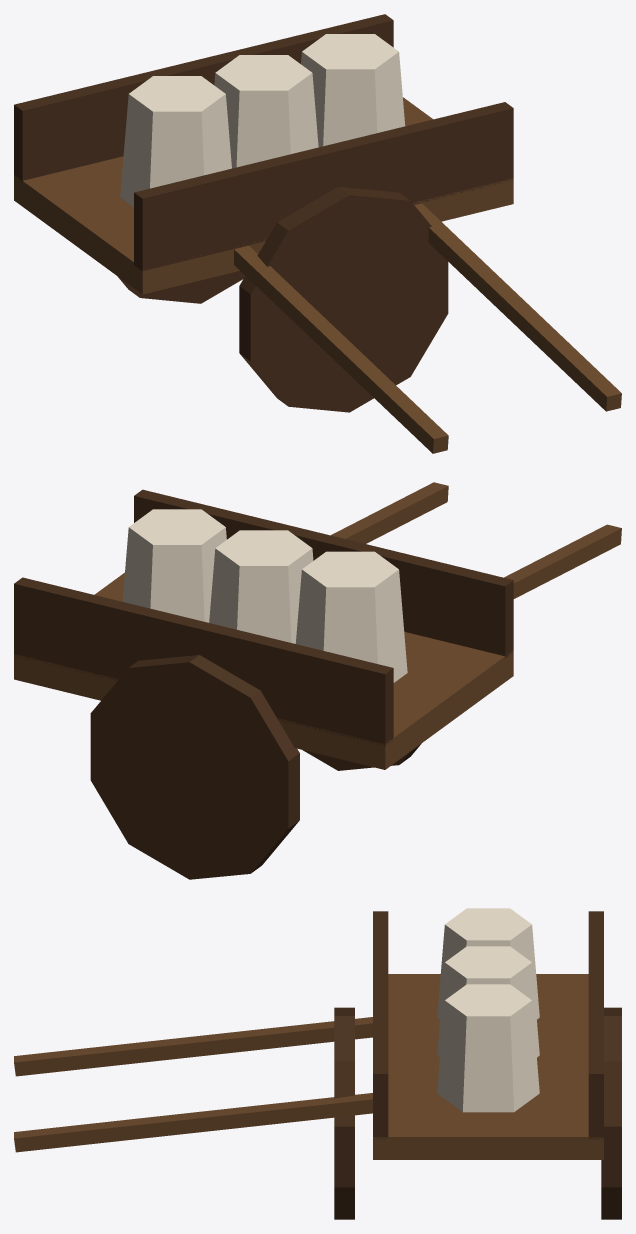
Rendered from prop_cart.glb.
3 renders of one model, top to bottom at view 1: azimuth 30°, elevation 25°; view 2: azimuth 150°, elevation 25°; view 3: azimuth 270°, elevation 25°, orthographic. The views are drawn at different scales.
Parts seen in each view (by area): view 1: prop_cart; view 2: prop_cart; view 3: prop_cart.
Part boxes in pixels (x1,y1,x2,y2): prop_cart: (14, 14, 621, 453); prop_cart: (14, 482, 621, 879); prop_cart: (14, 908, 621, 1219).
Bounding box in the file's own units: 1.5 × 1.07 × 2.37.
